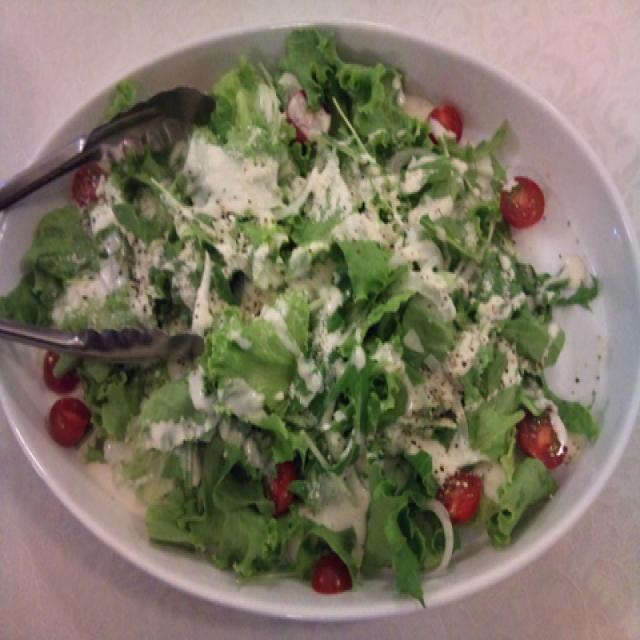Green Salad: (38, 49, 562, 556)
